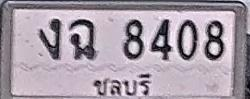0: (178, 20, 199, 61)
4: (150, 18, 171, 60)
8: (124, 20, 145, 60), (205, 21, 225, 61)
A07: (39, 18, 62, 59)
A09: (68, 18, 96, 60)
CBI: (91, 70, 154, 99)
